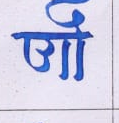au_matra: (53, 9, 93, 78)
